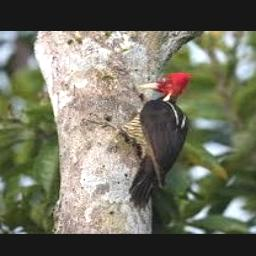Woodpecker: (86, 71, 192, 208)
